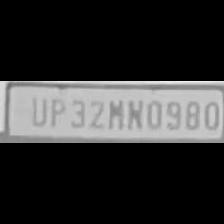0: (141, 97, 163, 129), (200, 97, 220, 128)
2: (85, 95, 103, 129)
3: (66, 95, 86, 127)
8: (181, 98, 199, 130)
9: (162, 96, 180, 130)
M: (102, 95, 124, 129)
N: (125, 96, 143, 130)
P: (47, 96, 65, 127)
U: (27, 94, 47, 126)
